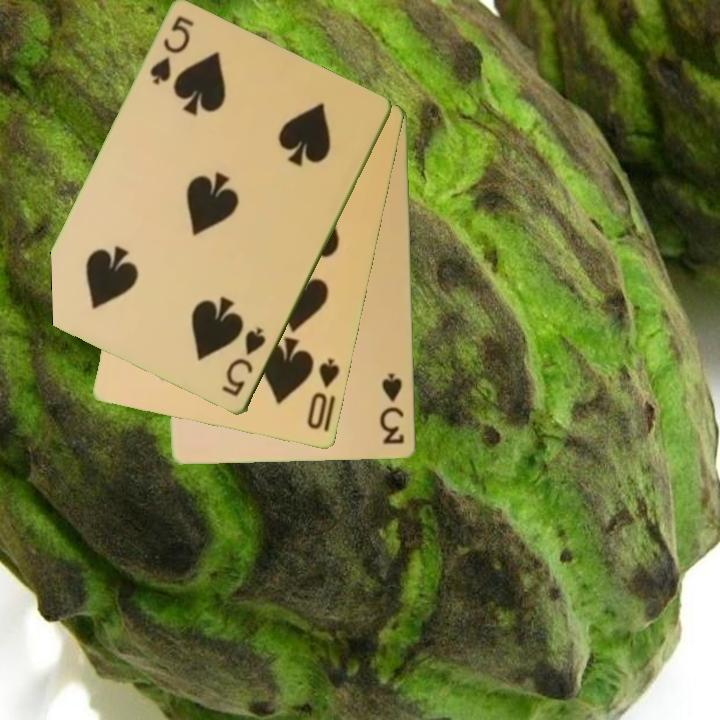10s: (303, 355, 343, 433)
3s: (377, 369, 408, 448)
5s: (218, 324, 269, 400), (146, 13, 197, 89)
